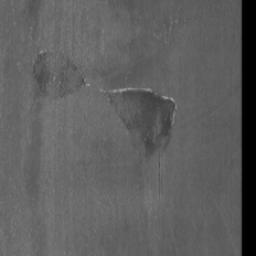Rolled pit: (95, 87, 176, 153), (33, 50, 86, 97)
